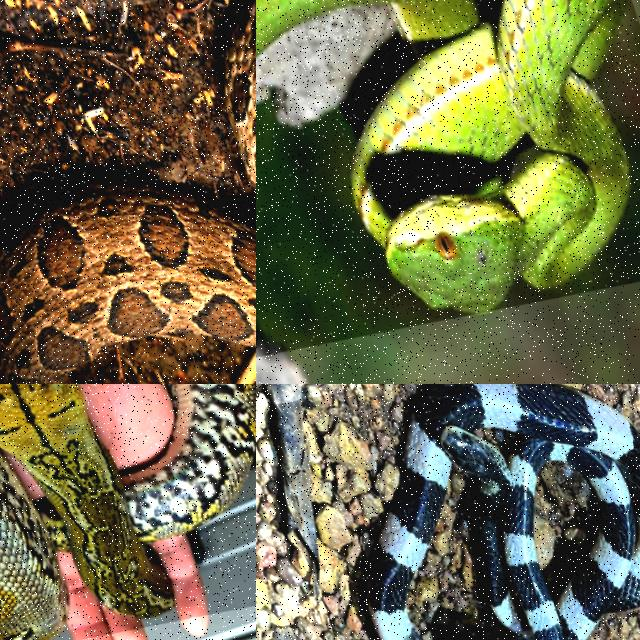Bungarus candidus: (367, 384, 639, 639)
Daboia siamensis: (0, 181, 255, 383)
Malayopython reticulatus: (0, 384, 255, 616)
Trimeresurus: (256, 0, 628, 312)
snake: (256, 0, 628, 312), (367, 384, 639, 639), (0, 384, 255, 616), (0, 181, 255, 383)
